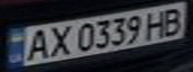0: (75, 20, 96, 52)
3: (93, 17, 115, 50), (109, 15, 130, 47)
9: (124, 12, 148, 44)
A: (18, 27, 54, 62)
B: (157, 4, 190, 37)
H: (139, 8, 172, 39)
X: (42, 22, 75, 58)
